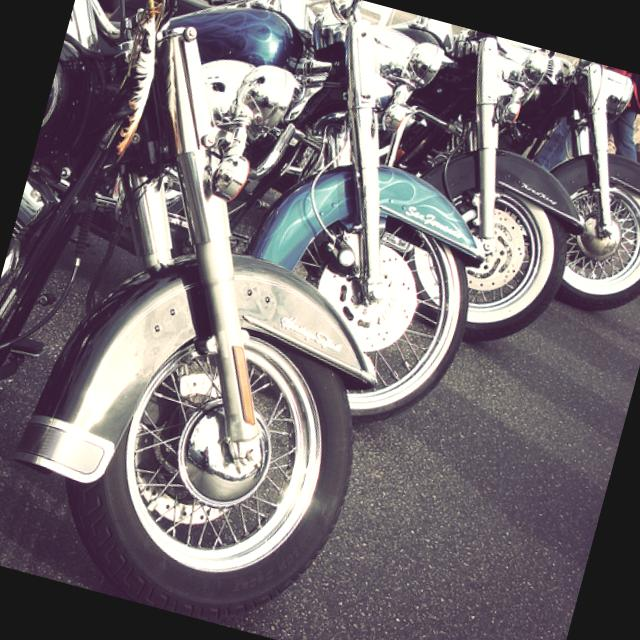Vehicle: (0, 0, 464, 633), (113, 0, 540, 434), (338, 15, 640, 367), (468, 44, 640, 322)
